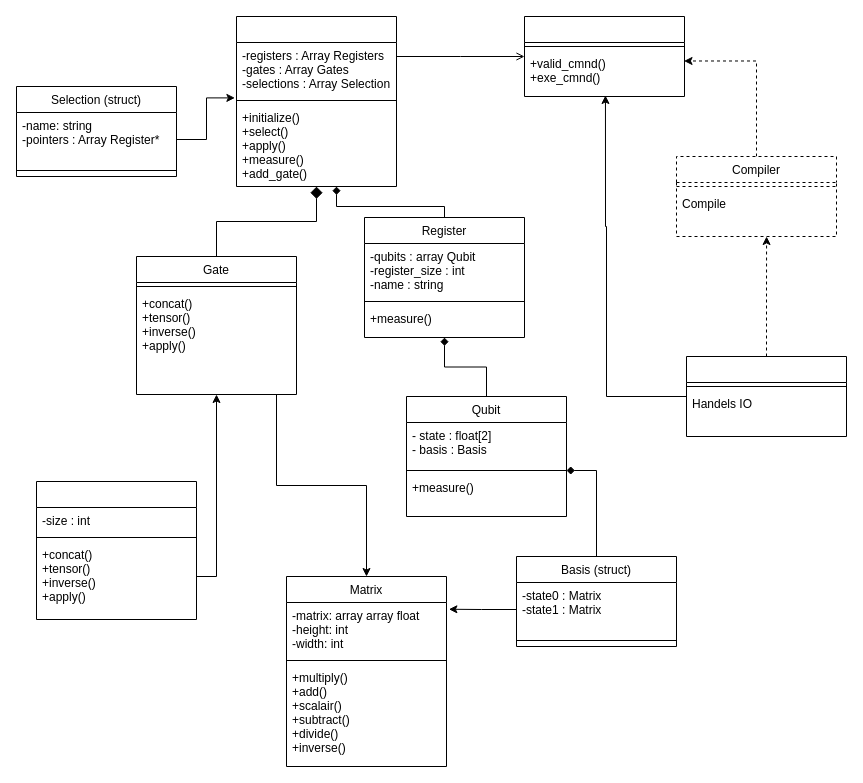
This 863x783 diagram has some shape labels left out. The shapes that lost their labels are listed below. From the top down, each one's box as (x1, y1, x2, y2) in pixels, then its label:
(524, 16, 684, 96): Interpreter
(236, 16, 396, 186): QPU
(686, 356, 846, 436): Main
(36, 480, 196, 620): UnitaryGate
